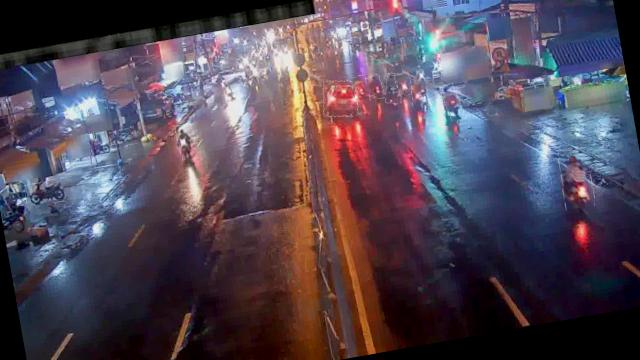Bike: (556, 147, 596, 210), (24, 176, 72, 206), (440, 82, 464, 122), (175, 122, 198, 160), (382, 70, 406, 104), (222, 75, 248, 102), (108, 127, 138, 148), (412, 65, 432, 93), (364, 74, 384, 100), (395, 72, 414, 96), (352, 75, 369, 100), (410, 83, 424, 109)
Car: (320, 76, 362, 120)
